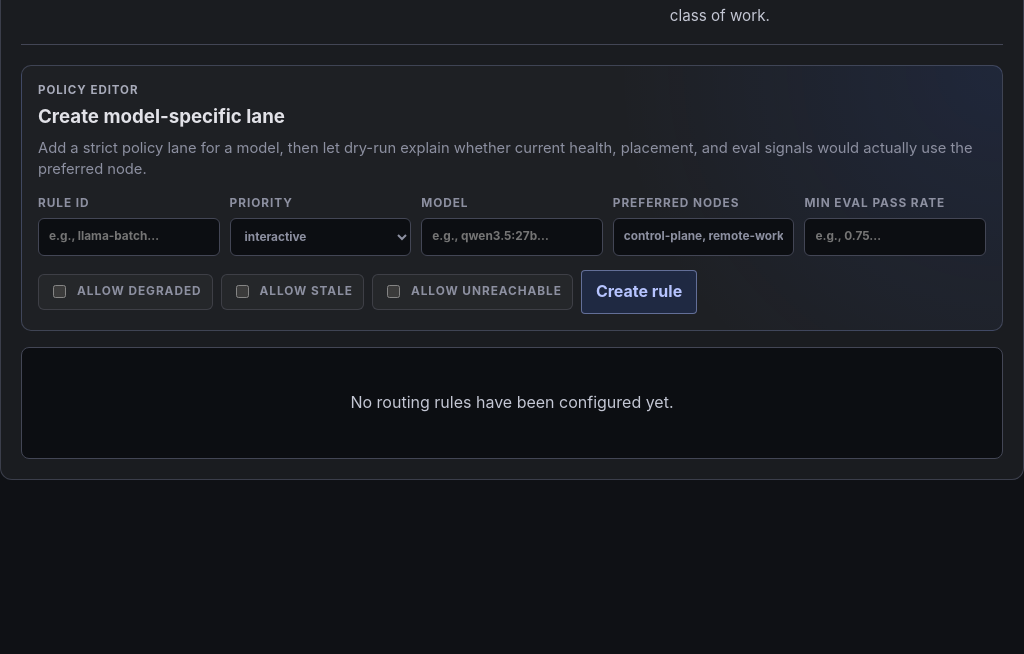
Test: RoutingPage › creates a model-specific routing rule and displays route history
Type "qwen-batch" into the field with placeholder "e.g., llama-batch…" at (129, 237), box [38,218,220,256]
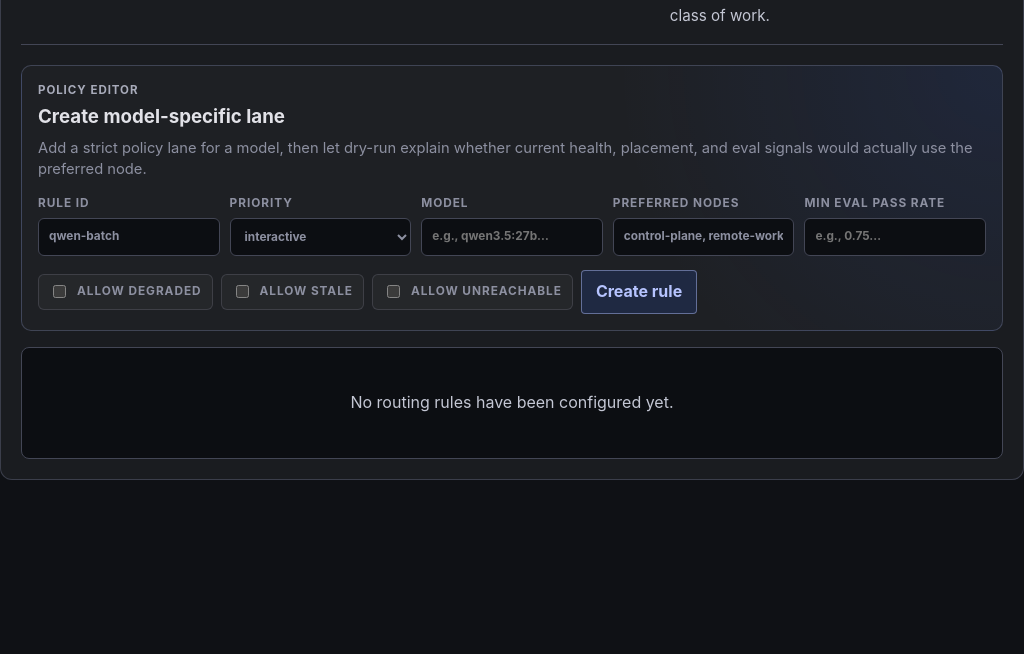
Type "qwen3.5:27b" into the field with placeholder "e.g., qwen3.5:27b…" at (512, 237), box [421,218,603,256]
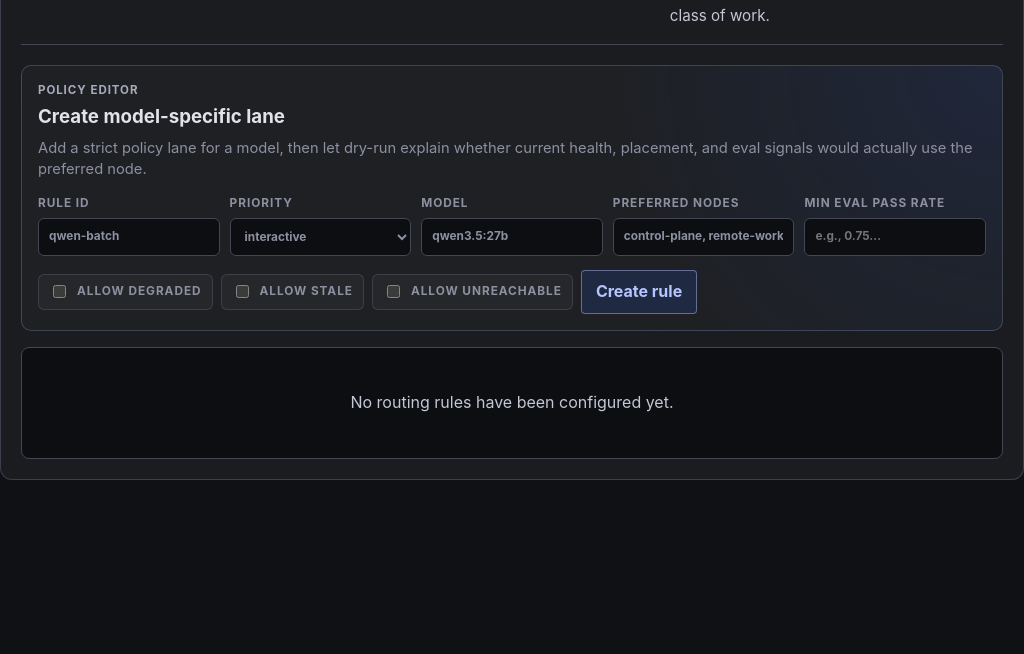
Replace the text in the field with placeholder "e.g., remote-worker, control-plane…" with "remote-worker, control-plane" at (704, 237), box [613,218,794,256]
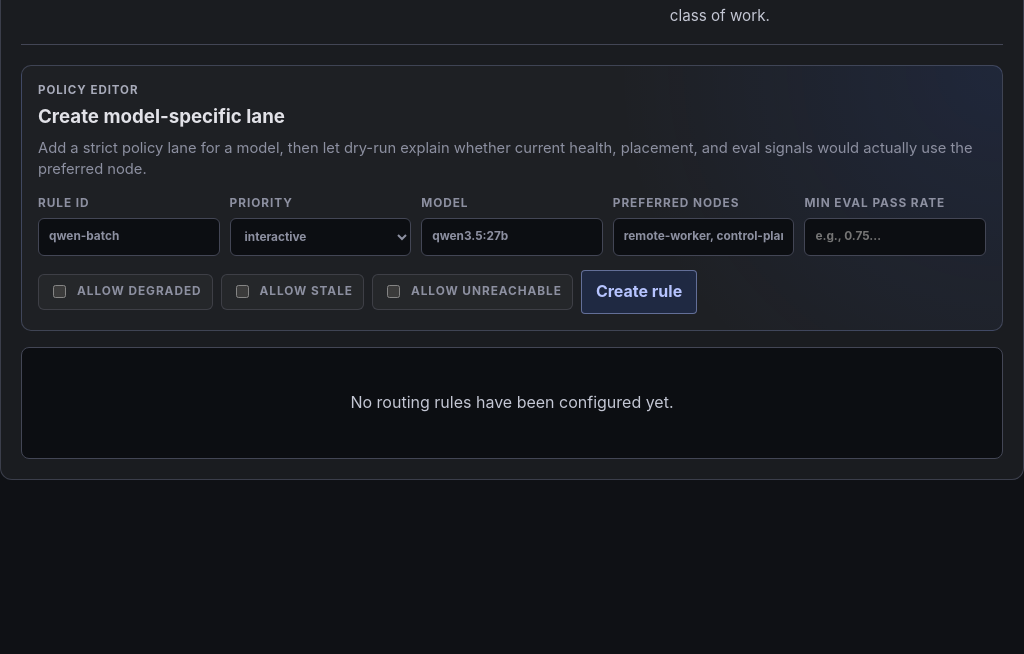
Type "0.75" into the field with placeholder "e.g., 0.75…" at (895, 237), box [804,218,986,256]
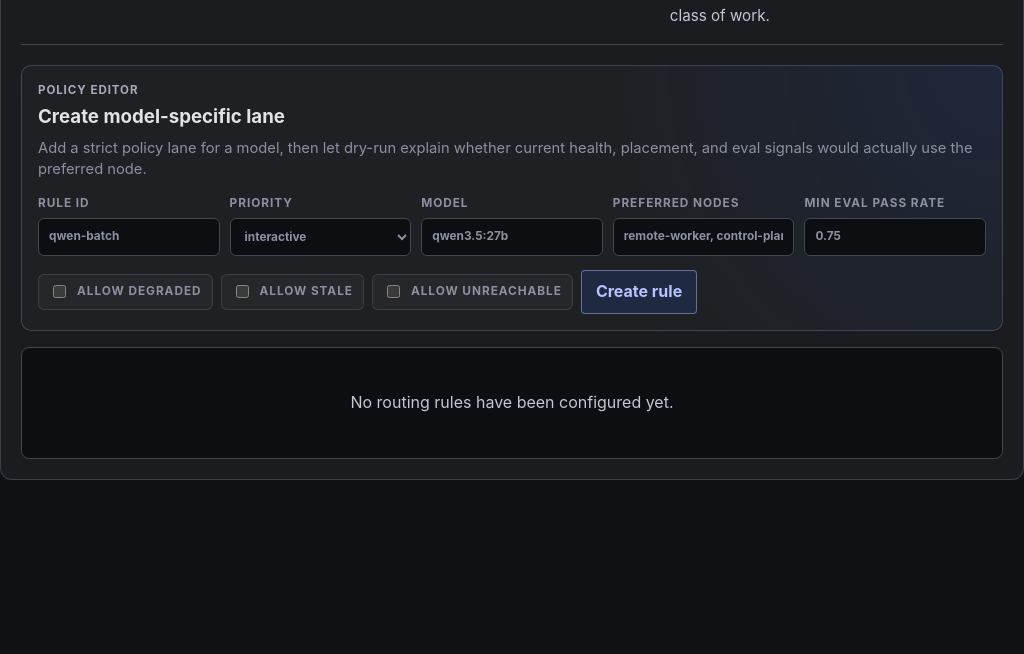
Click the button "Create rule" at (639, 292), box [581,270,697,314]
(page scrolled)
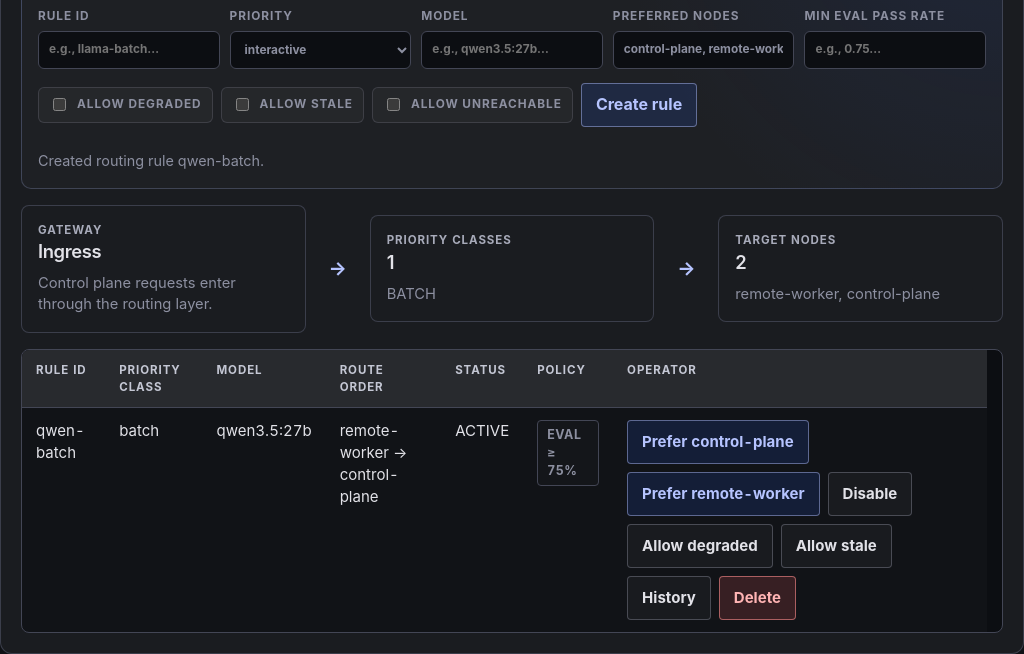
expect the text "qwen-batch" is shown: met, box [22,408,105,632]
expect the text "qwen3.5:27b" is shown: met, box [202,408,326,632]
expect the text "eval ≥ 75%" is shown: met, box [537,420,599,486]
Click the button "History" at (669, 598), box [627,576,711,620]
(page scrolled)
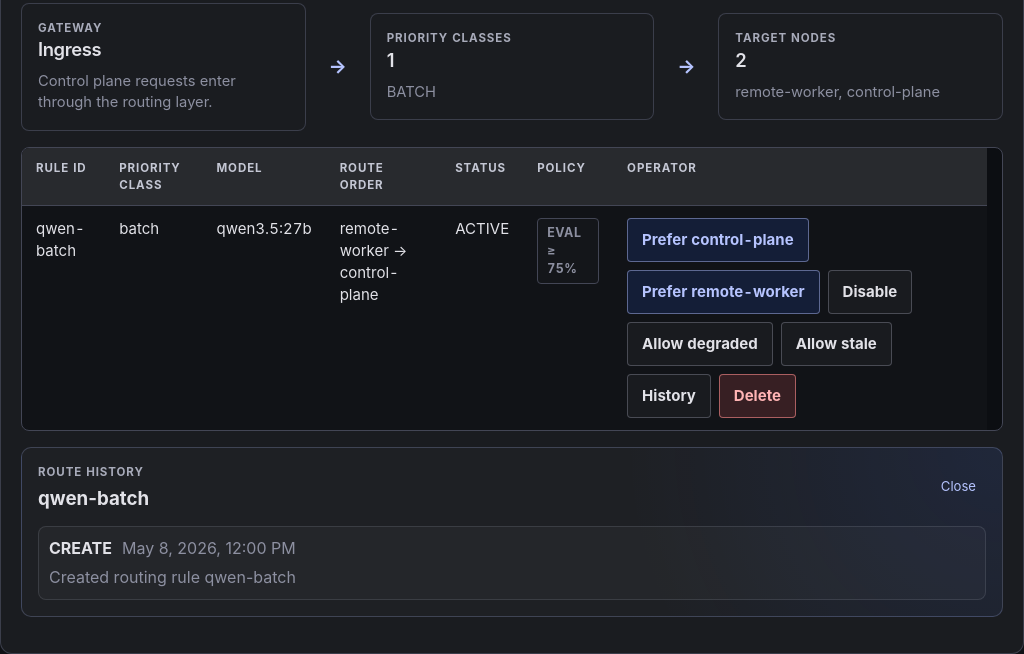
expect the text "Created routing rule qwen-batch" is shown: met, box [49,567,296,587]
